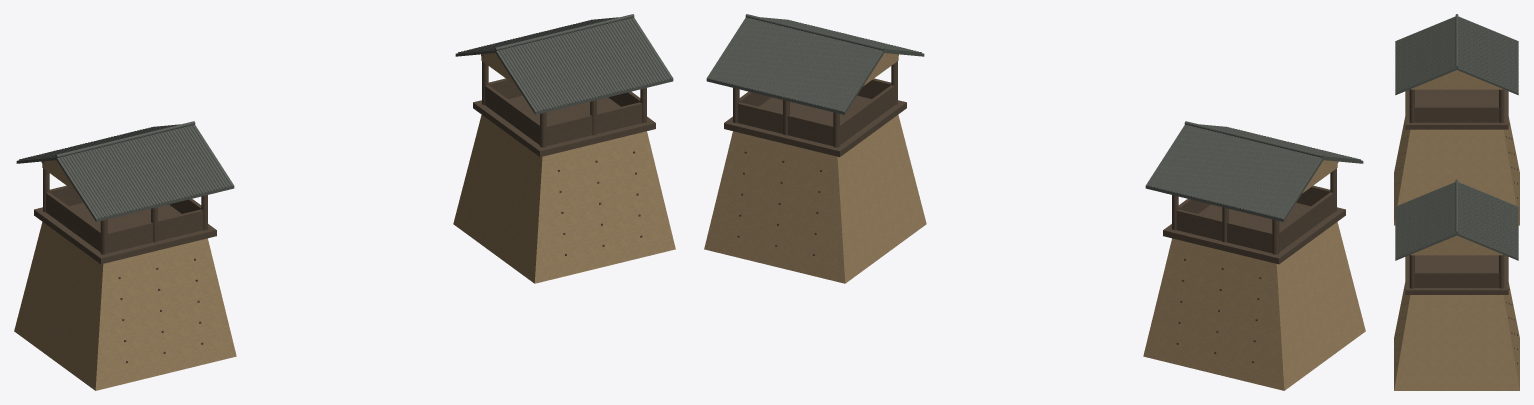
Rendered from palaceque-Q-LOD0.glb.
3 views of the same model, side by side, from view 1: azimuth 30°, elevation 25°; view 2: azimuth 150°, elevation 25°; view 3: azimuth 270°, elevation 25° (orthographic). The views are drawn at different scales.
Visible parts, largest first — view 1: palaceque-Q-static_earth, palaceque-Q-static_tile, palaceque-Q-static_timber; view 2: palaceque-Q-static_earth, palaceque-Q-static_tile, palaceque-Q-static_timber; view 3: palaceque-Q-static_earth, palaceque-Q-static_tile, palaceque-Q-static_timber.
Boxes of the visible parts, x1,y1,x2,y2 form: palaceque-Q-static_earth: [14, 53, 675, 390]; palaceque-Q-static_tile: [16, 14, 673, 221]; palaceque-Q-static_timber: [34, 54, 655, 363]; palaceque-Q-static_earth: [704, 53, 1365, 390]; palaceque-Q-static_tile: [706, 14, 1363, 221]; palaceque-Q-static_timber: [724, 54, 1345, 363]; palaceque-Q-static_earth: [1394, 70, 1519, 390]; palaceque-Q-static_tile: [1395, 14, 1518, 260]; palaceque-Q-static_timber: [1396, 89, 1517, 364].
Size of the model in its own units: 37 by 12.54 by 9.
3 materials, 3 textured.
